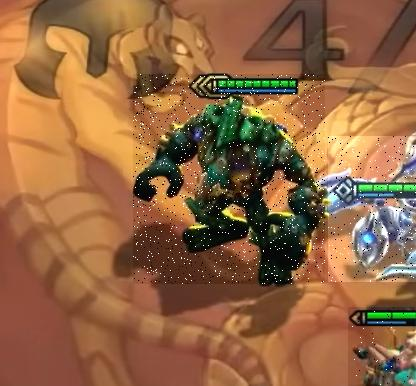1_seraphine: (348, 307, 415, 386)
2_vladimir: (328, 136, 416, 282)
3_malphite: (133, 74, 325, 284)
